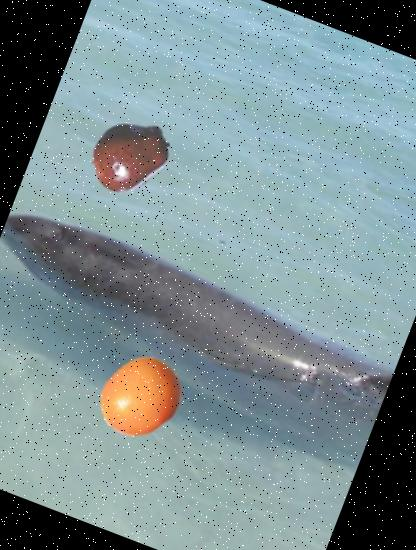Apple: (79, 105, 182, 208)
Grapefruit: (85, 342, 196, 454)
